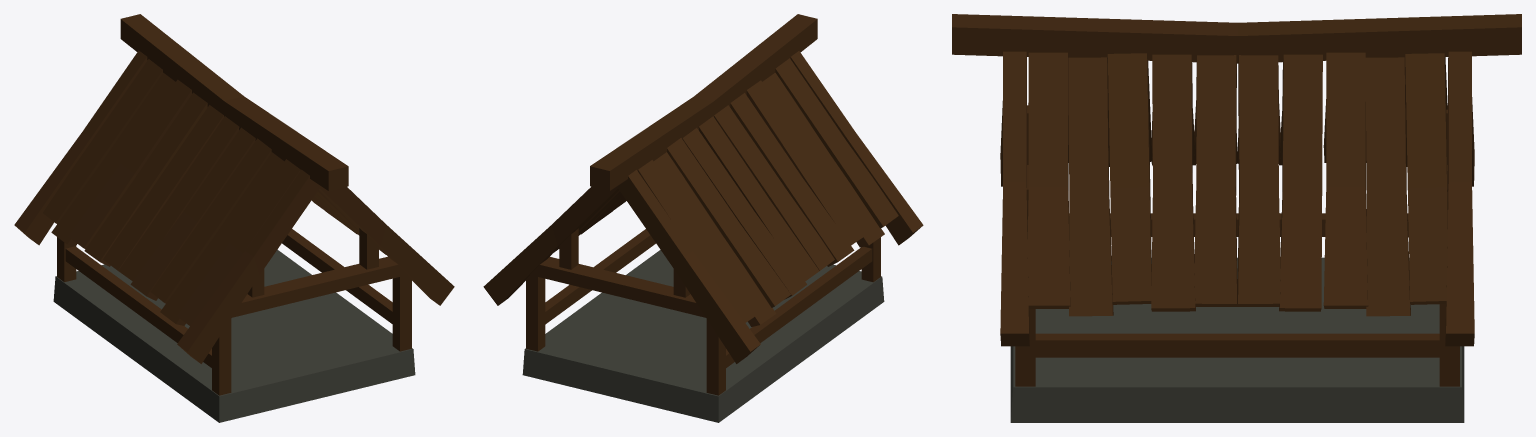
Rendered from Houses_FirstAge_1_Level2.obj.
3 views of the same model, side by side, from view 1: azimuth 30°, elevation 25°; view 2: azimuth 150°, elevation 25°; view 3: azimuth 270°, elevation 25° (orthographic). The views are drawn at different scales.
Visible parts, largest first — view 1: Houses_FirstAge_1_Level2_Cube.011; view 2: Houses_FirstAge_1_Level2_Cube.011; view 3: Houses_FirstAge_1_Level2_Cube.011.
Boxes of the visible parts, x1,y1,x2,y2 form: Houses_FirstAge_1_Level2_Cube.011: (14,14,454,422); Houses_FirstAge_1_Level2_Cube.011: (483,14,923,422); Houses_FirstAge_1_Level2_Cube.011: (952,14,1521,422).
Bounding box in the file's own units: 0.8693 × 0.7645 × 1.17.
